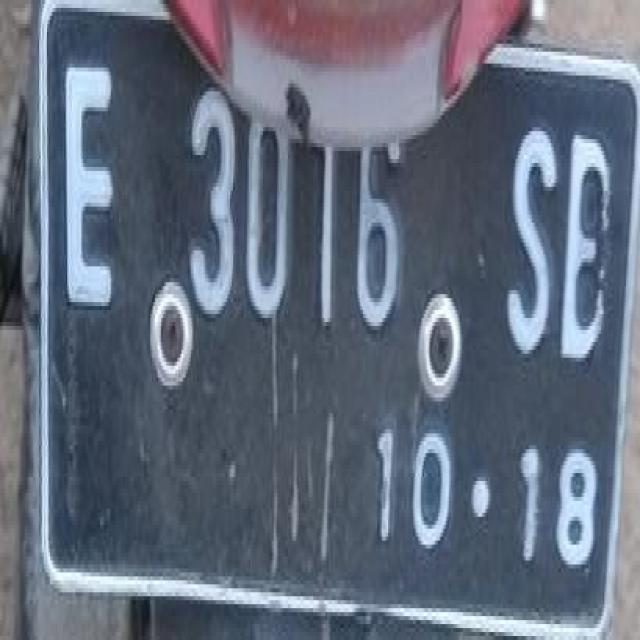0: (243, 83, 295, 330)
1: (301, 90, 351, 339)
3: (183, 52, 239, 338)
6: (359, 109, 406, 340)
B: (558, 122, 614, 382)
E: (57, 46, 128, 340)
S: (504, 95, 556, 374)
